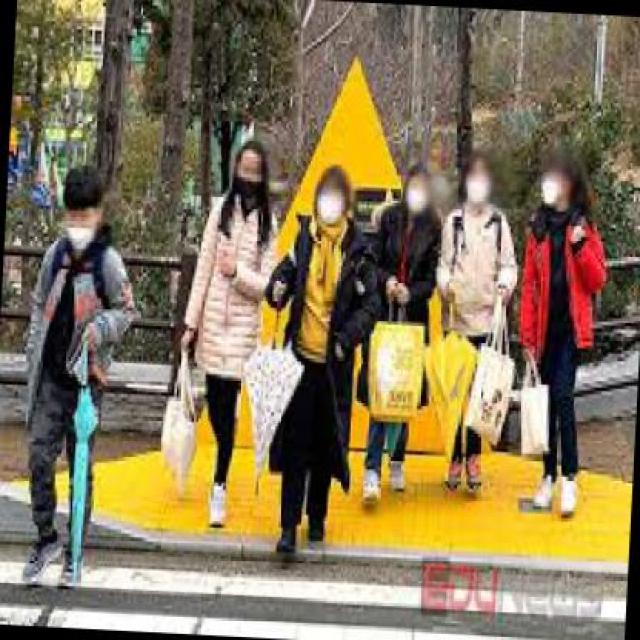obstacle: (18, 162, 142, 588), (263, 160, 383, 565), (171, 137, 277, 528), (506, 152, 614, 516), (357, 159, 443, 515), (431, 149, 517, 491)
